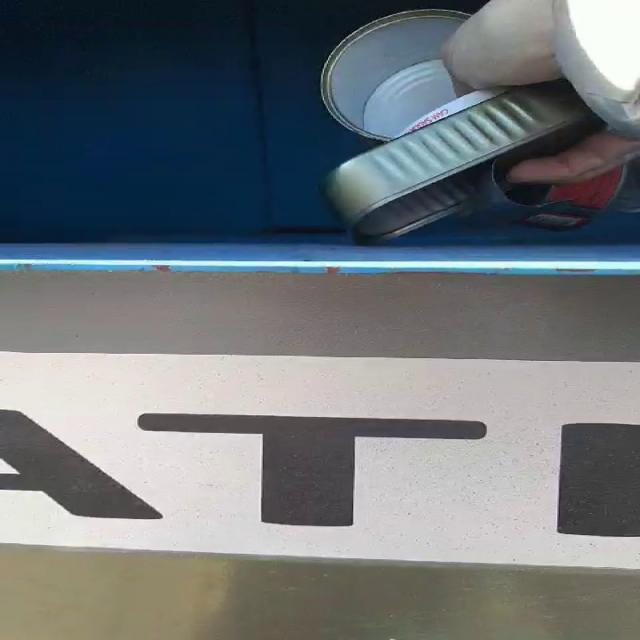bin: (0, 0, 640, 640)
metal: (321, 10, 623, 243)
